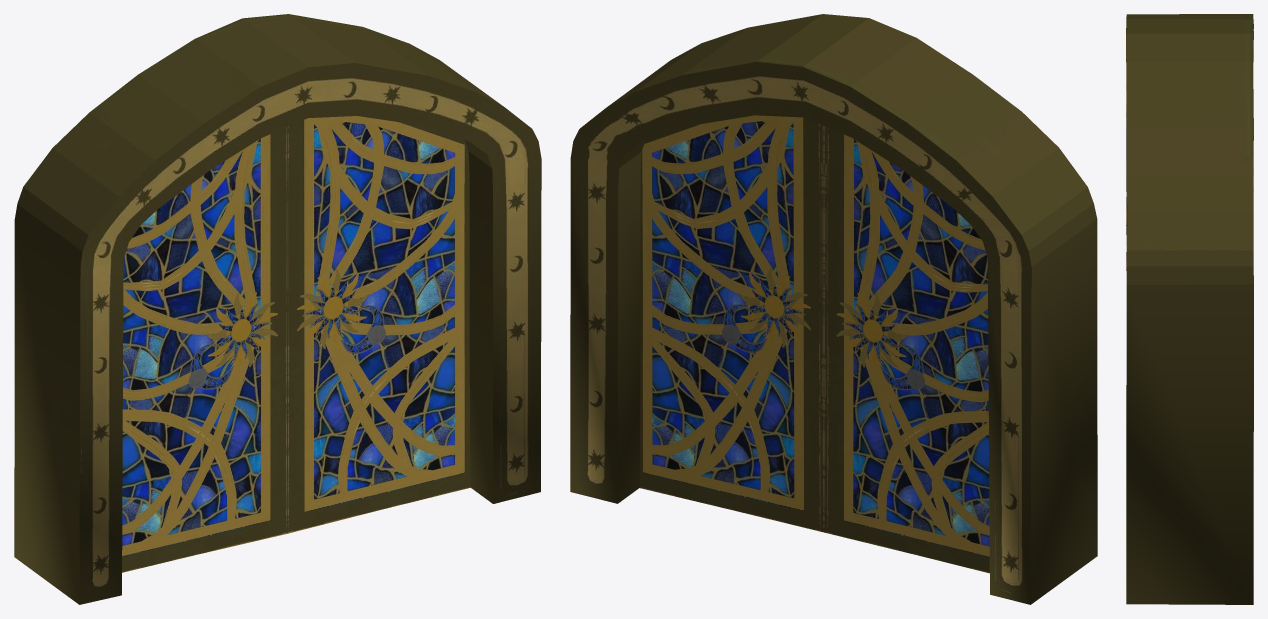
The model's file is doorClosedCompressed.glb.
The picture shows the model from 3 angles, left to right: view 1: azimuth 30°, elevation 25°; view 2: azimuth 150°, elevation 25°; view 3: azimuth 270°, elevation 25°; orthographic projection. The views are drawn at different scales.
Parts seen in each view (by area): view 1: doorLP.002; view 2: doorLP.002; view 3: doorLP.002.
Boxes of the visible parts, x1,y1,x2,y2 form: doorLP.002: (14, 14, 541, 604); doorLP.002: (570, 14, 1097, 604); doorLP.002: (1126, 14, 1253, 604).
Size of the model in its own units: 2 by 2 by 0.5.
Materials: 2 (2 with a texture image).
